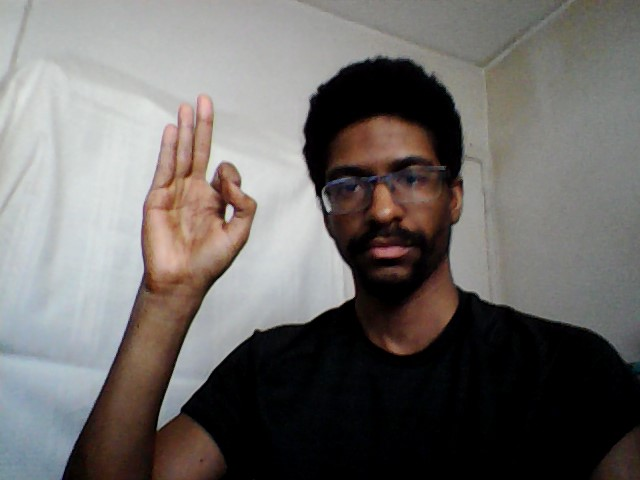f: (132, 90, 260, 298)
